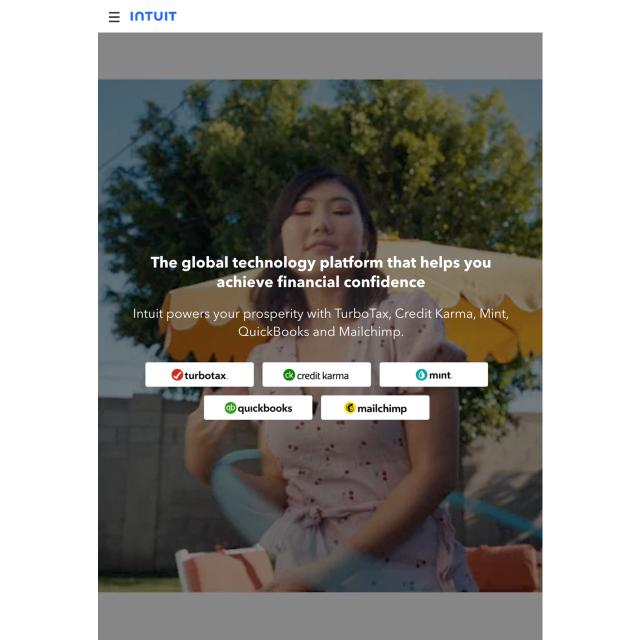CheckBox: (145, 362, 254, 387), (262, 362, 371, 387), (321, 395, 430, 420), (380, 362, 488, 387), (204, 395, 312, 420)
Input field: (132, 305, 509, 341)
bag: (98, 1, 543, 32)
card: (98, 79, 542, 592)
date picker: (127, 8, 177, 24), (343, 401, 357, 414), (282, 368, 295, 382), (224, 401, 237, 414), (170, 369, 183, 381)
decoration: (107, 10, 122, 26)
image: (150, 252, 492, 288)
